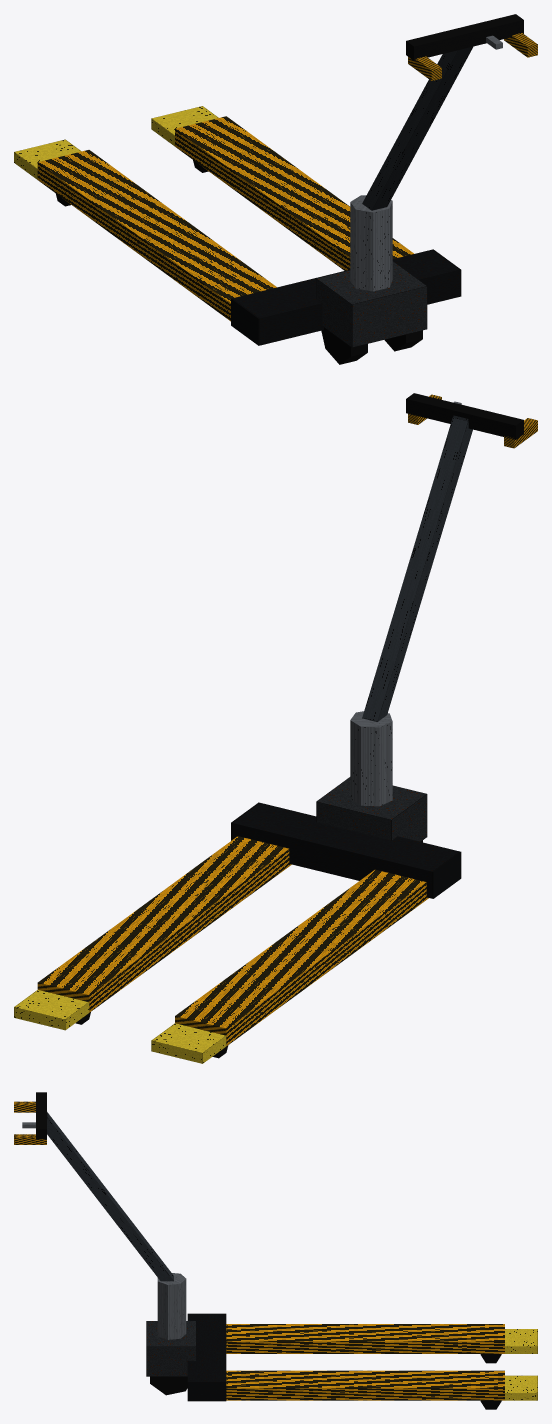
Rendered from forklift_cart.glb.
The picture shows the model from 3 angles, top to bottom: view 1: azimuth 30°, elevation 25°; view 2: azimuth 150°, elevation 25°; view 3: azimuth 270°, elevation 25°; orthographic projection. The views are drawn at different scales.
Visible parts, largest first — view 1: forklift_cart; view 2: forklift_cart; view 3: forklift_cart.
Part boxes in pixels (left/top/right/bottom): forklift_cart: left=14, top=14, right=537, bottom=364; forklift_cart: left=14, top=393, right=537, bottom=1063; forklift_cart: left=14, top=1092, right=537, bottom=1409.
Size of the model in its own units: 0.59 by 1.09 by 1.9.
Materials: 1 (1 with a texture image).
